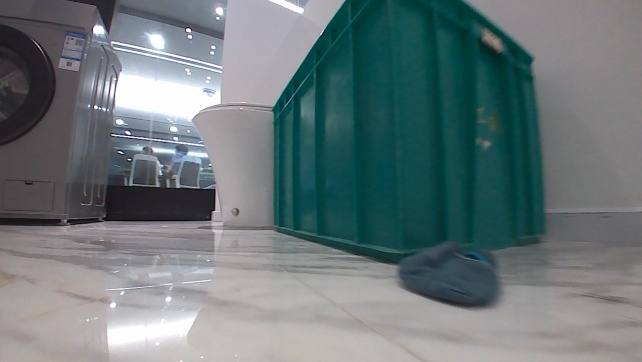socks: (394, 239, 501, 307)
toilet: (187, 99, 276, 230)
washing_machine: (0, 0, 123, 228)
